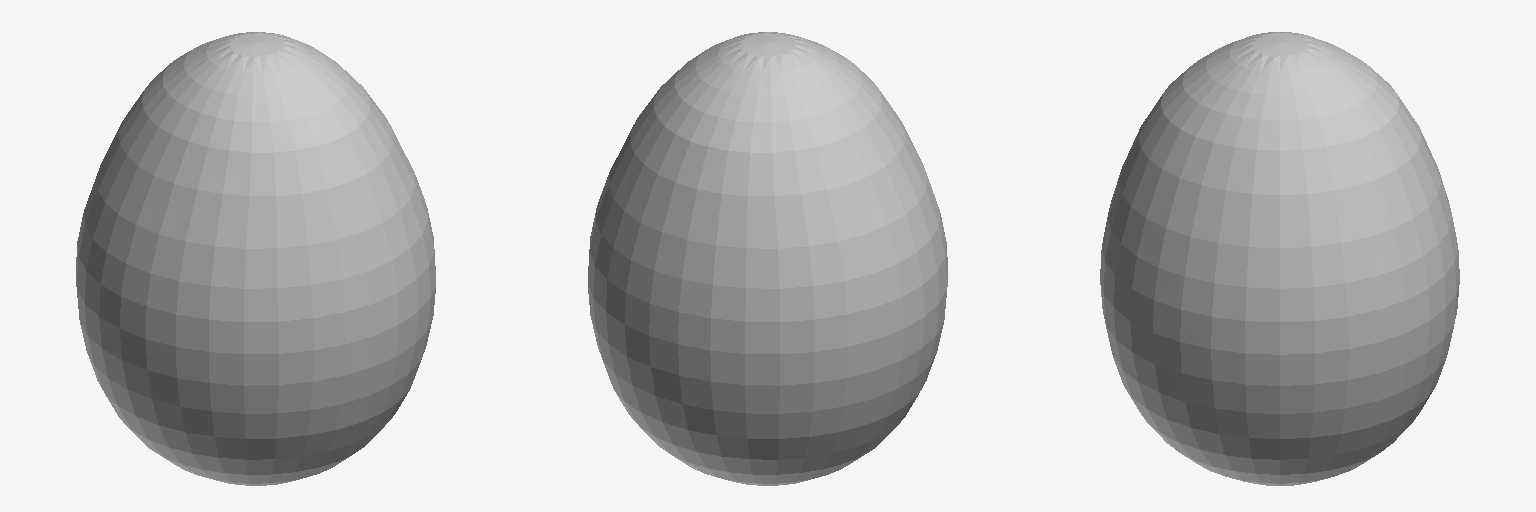
The model's file is boiled.obj.
3 renders of one model, left to right at view 1: azimuth 30°, elevation 25°; view 2: azimuth 150°, elevation 25°; view 3: azimuth 270°, elevation 25°, orthographic.
Parts seen in each view (by area): view 1: boiledegg; view 2: boiledegg; view 3: boiledegg.
Boxes of the visible parts, box(x1,y1,x2,y2) form: boiledegg: box(76, 32, 435, 485); boiledegg: box(588, 32, 947, 485); boiledegg: box(1100, 32, 1459, 485).
Size of the model in its own units: 0.2929 by 0.3805 by 0.291.